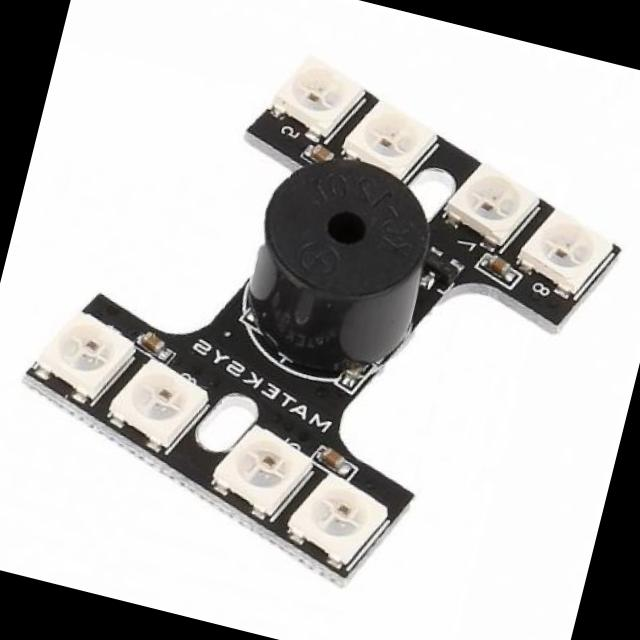LED: (24, 287, 140, 413), (208, 404, 318, 528), (284, 468, 404, 572), (262, 36, 372, 141), (344, 84, 454, 184), (107, 347, 207, 454), (441, 154, 548, 246), (516, 204, 619, 290)
capacitor: (308, 441, 364, 480), (476, 246, 514, 284), (300, 132, 337, 170), (135, 322, 174, 356)
transistor: (412, 240, 466, 294)
